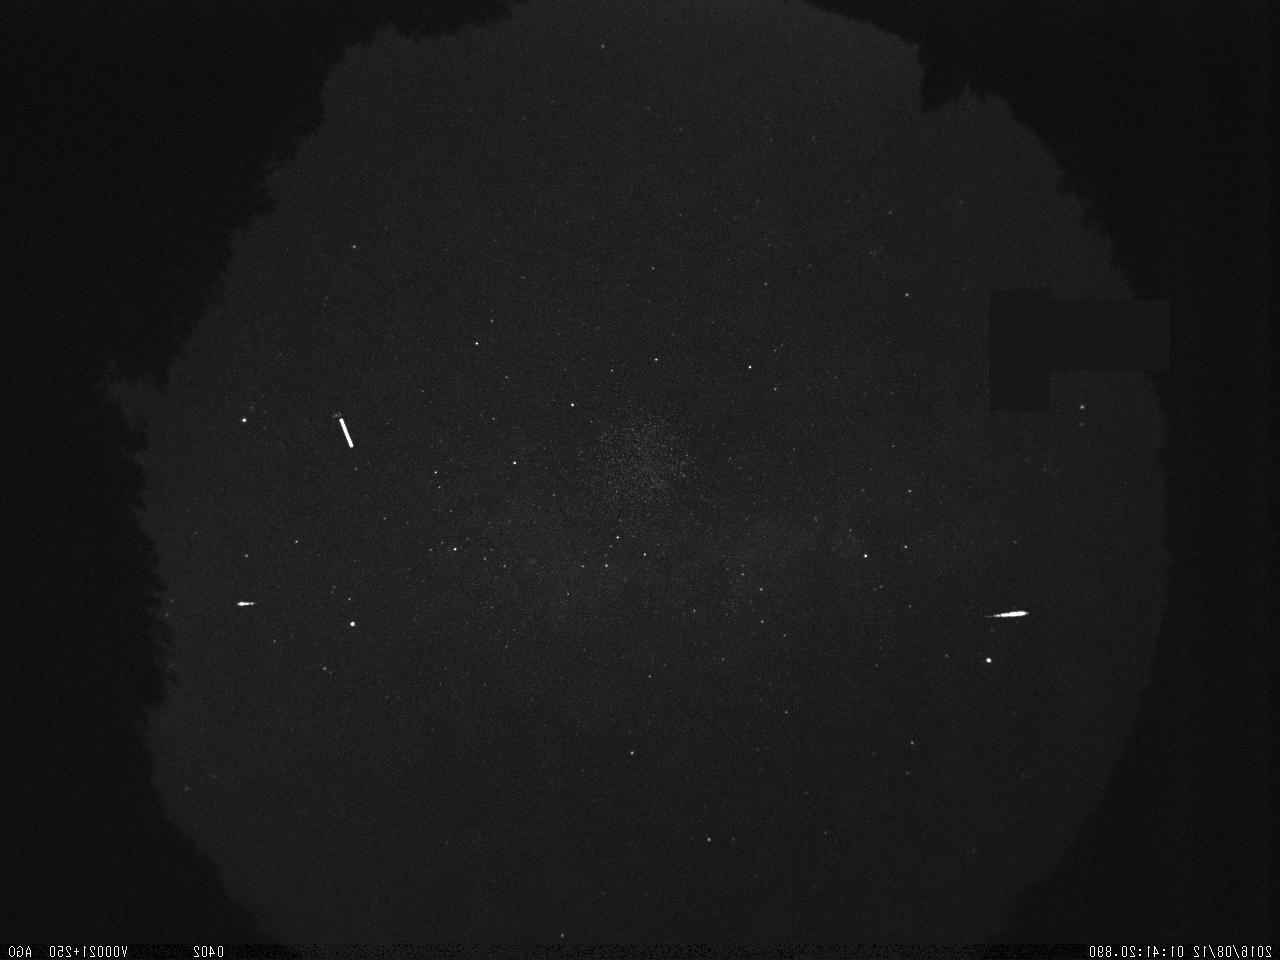meteor: (979, 603, 1030, 623), (230, 596, 261, 612)
satelite: (331, 414, 362, 455)
